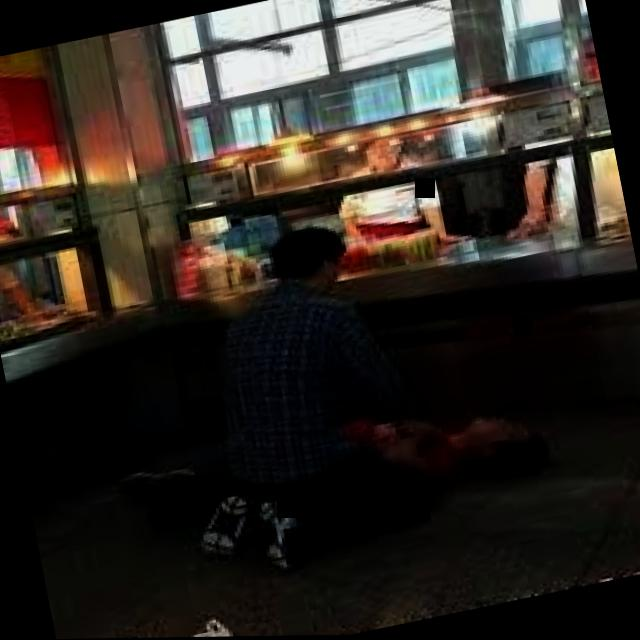Fall-Detected: (100, 350, 572, 574)
